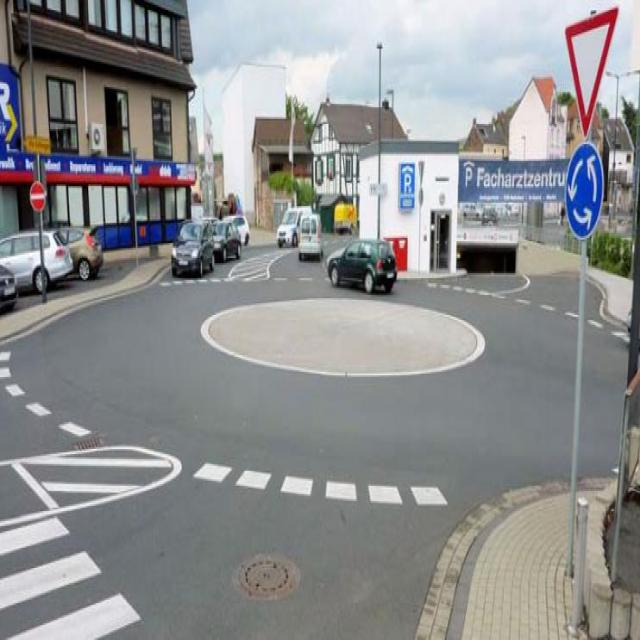no entry: (29, 180, 47, 214)
roundabout: (562, 142, 606, 243)
